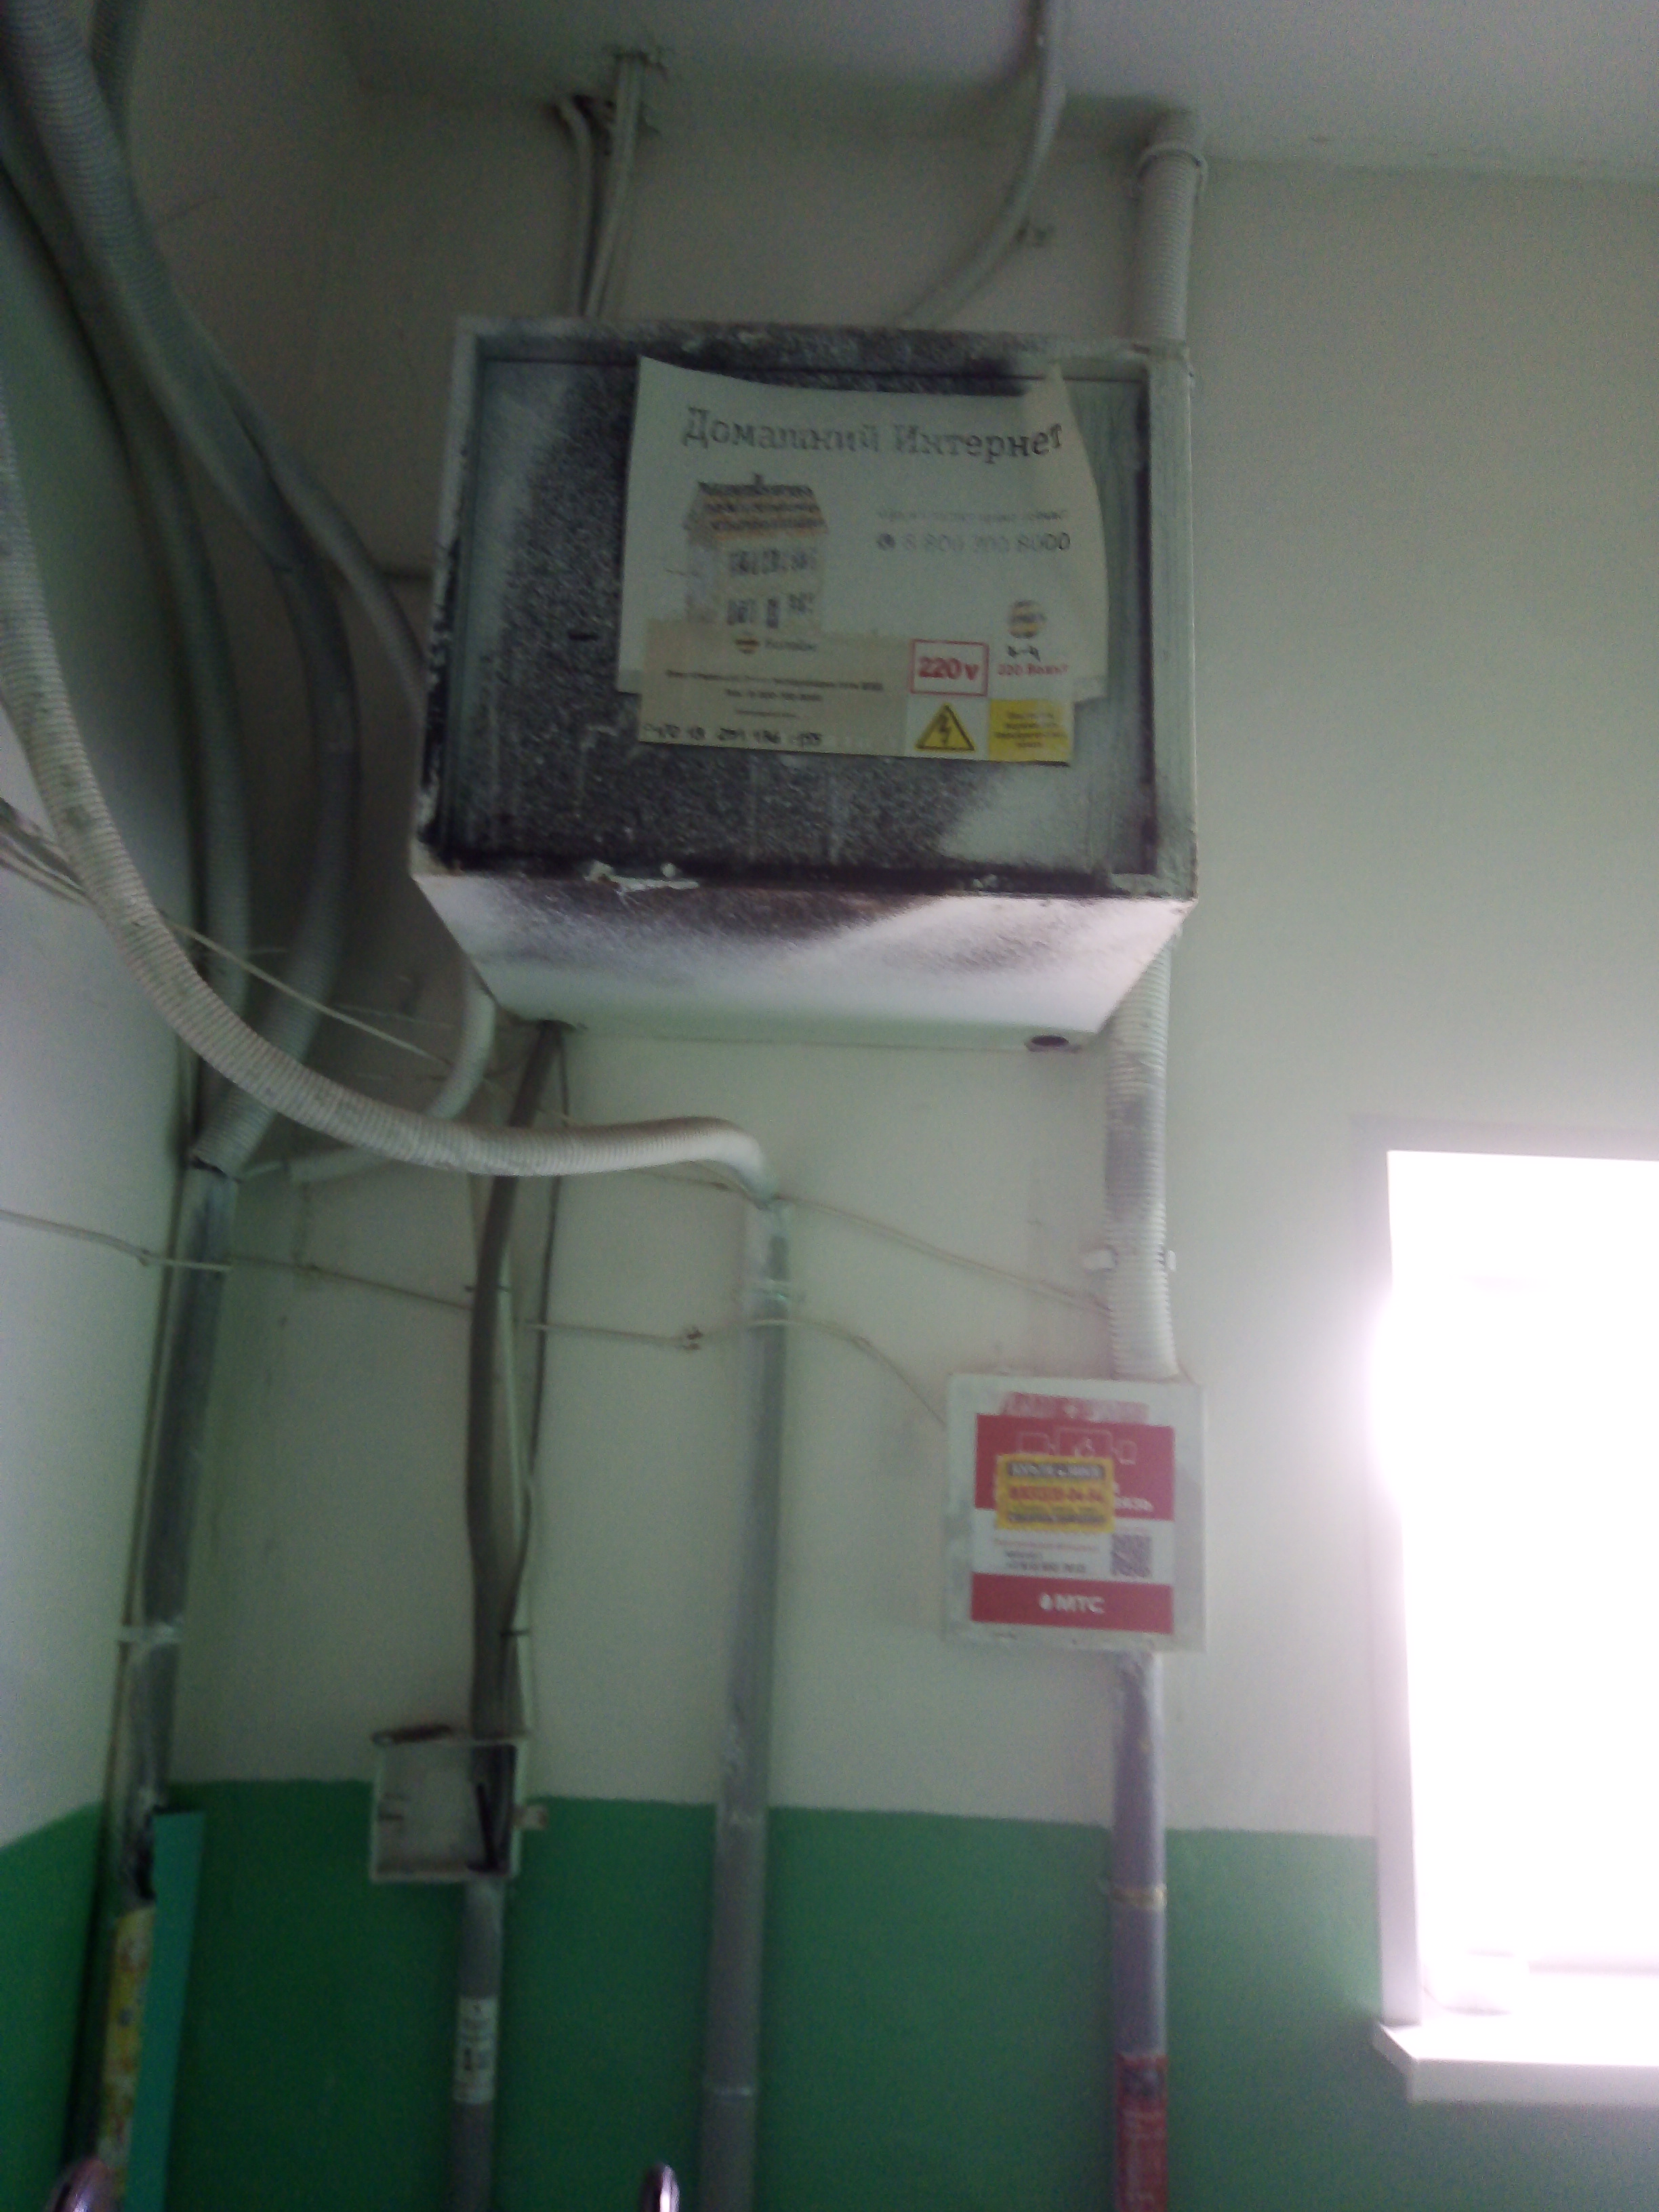shta-9m: (394, 308, 1206, 1055)
